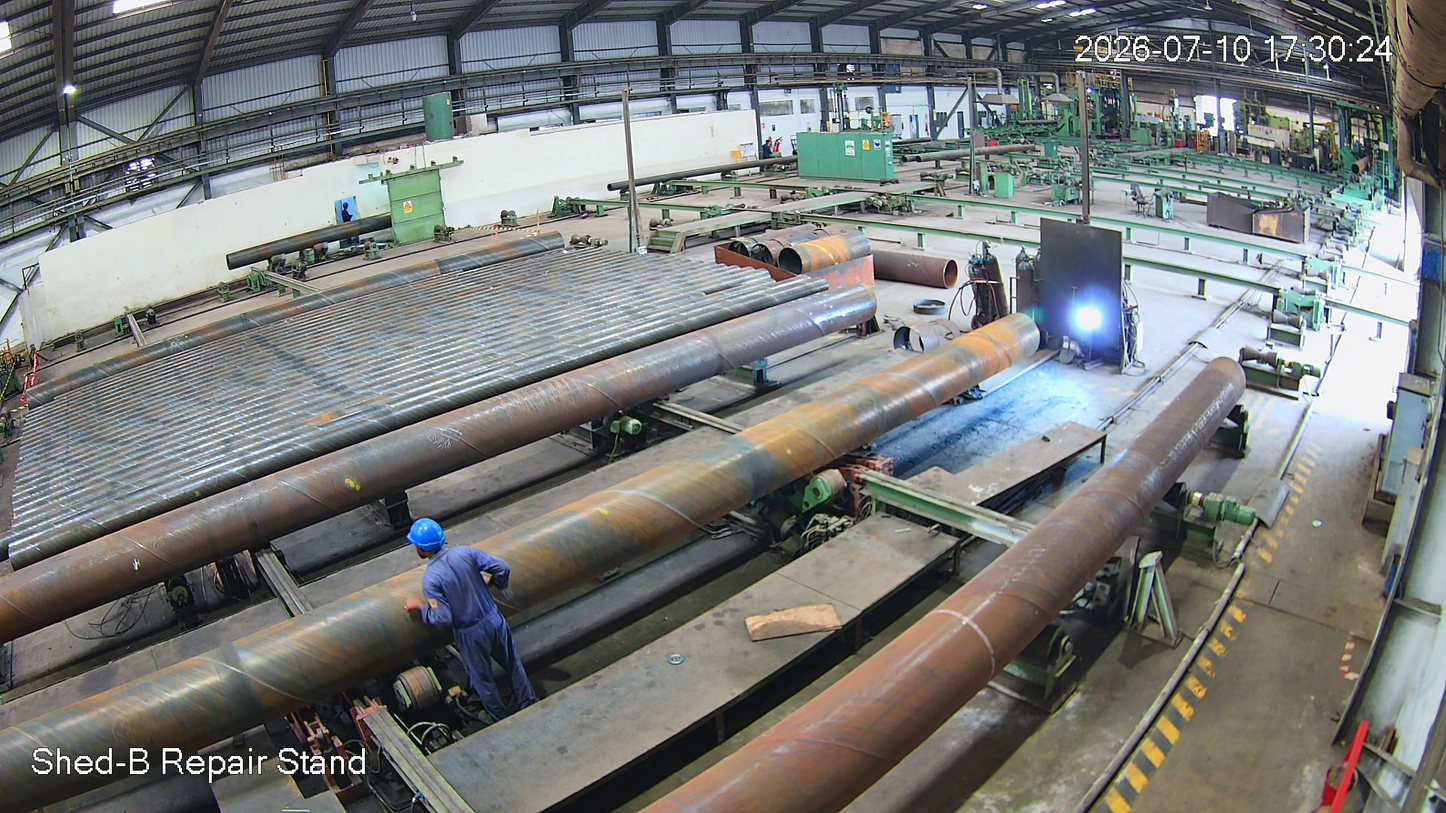Helmet: (403, 508, 466, 566)
Person: (409, 506, 542, 724)
